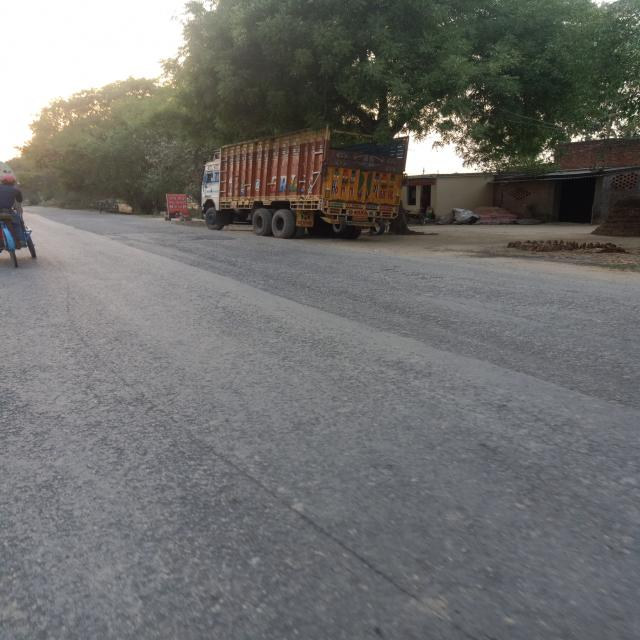Truck: (202, 128, 393, 236)
